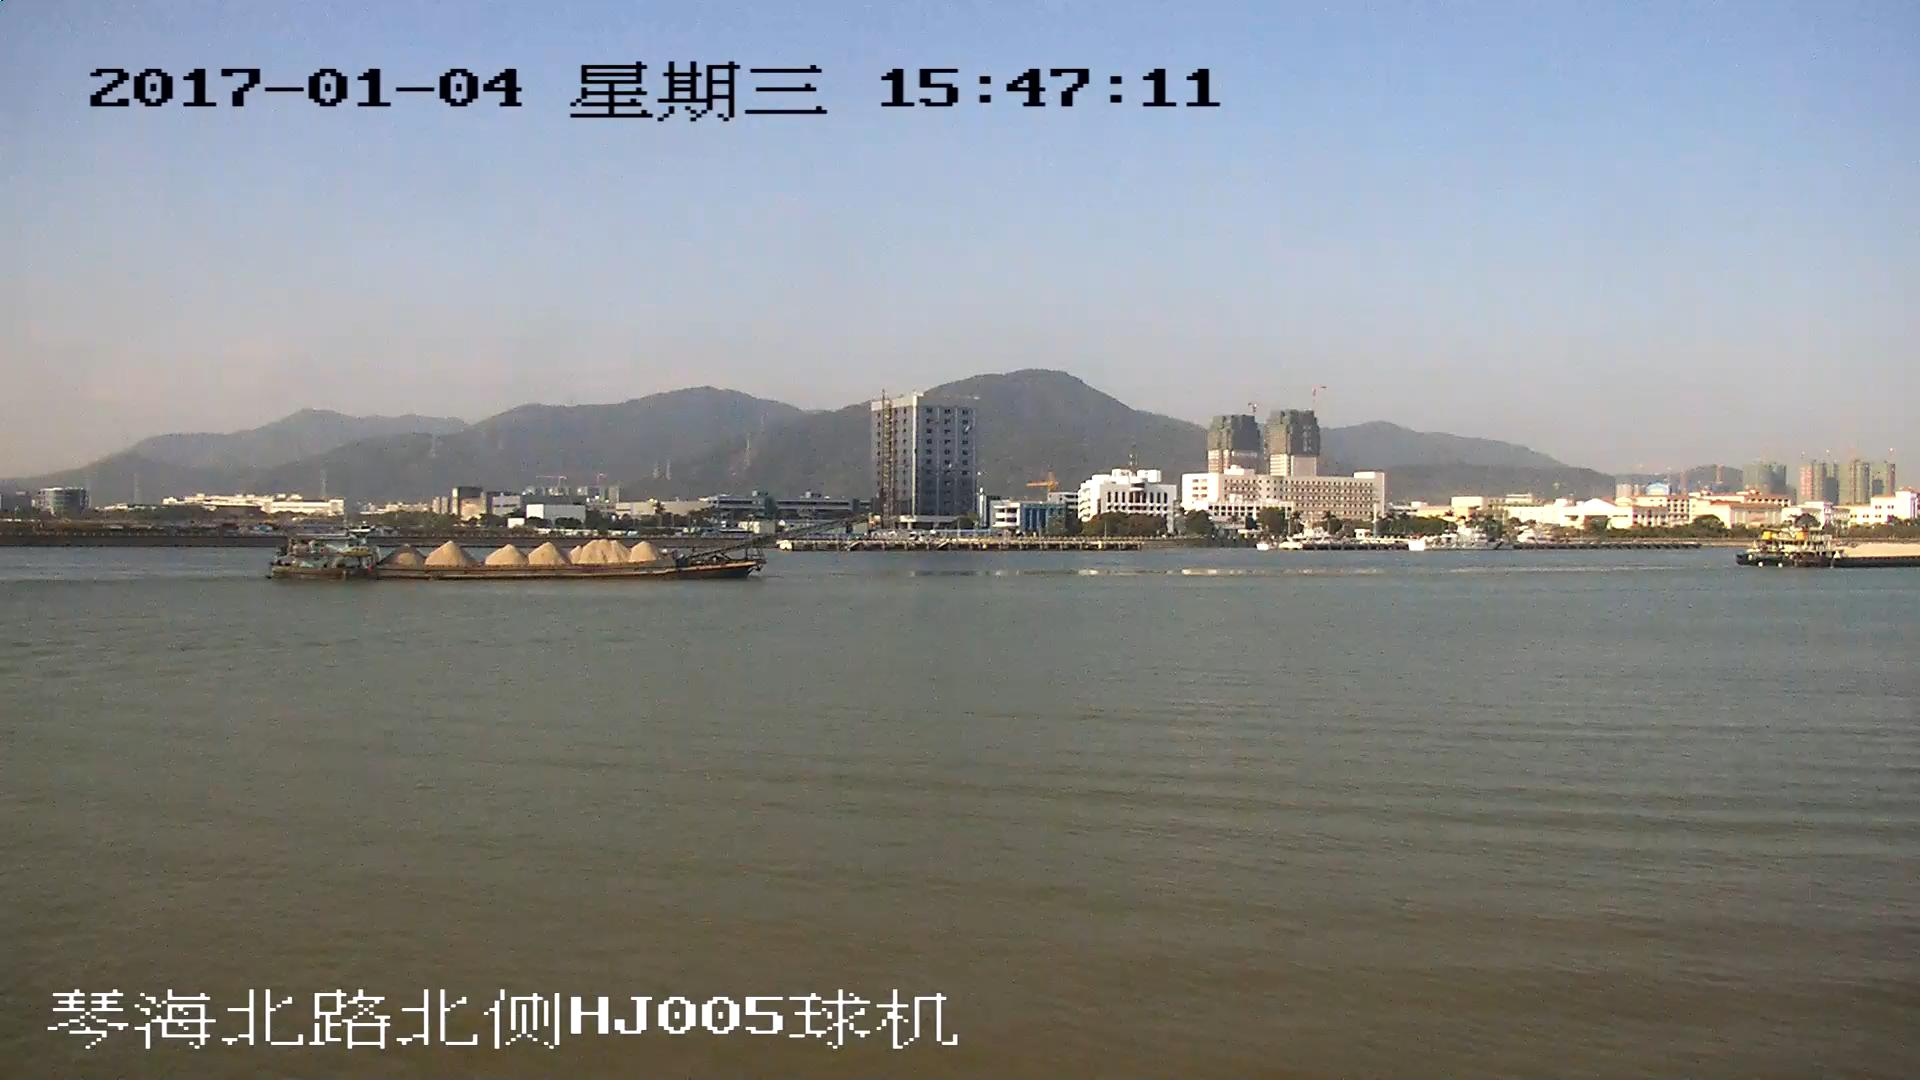ore carrier: (274, 515, 858, 583), (1744, 528, 1920, 567)
